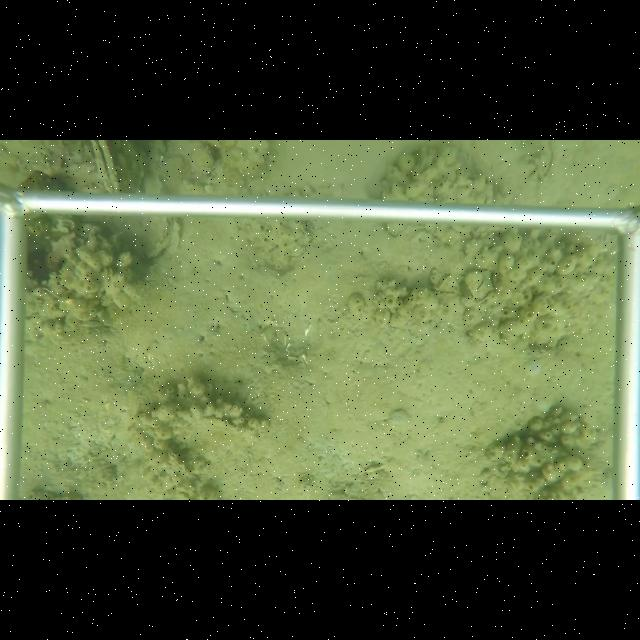Oyster-Closed: (167, 443, 198, 483)
Oyster-Open: (91, 140, 124, 194)
